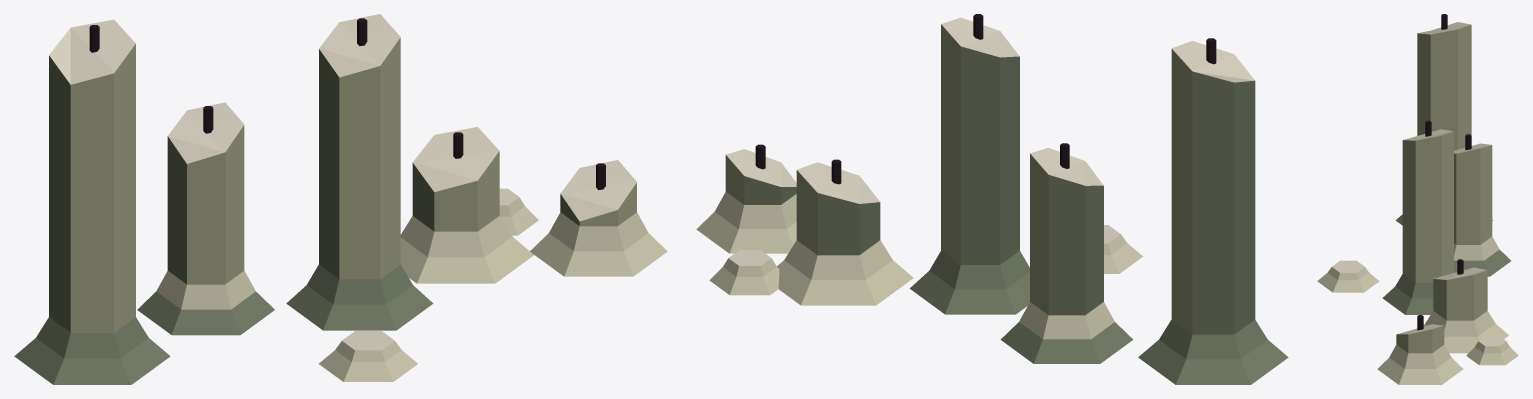
The model's file is wall_niche_candles.glb.
3 renders of one model, left to right at view 1: azimuth 30°, elevation 25°; view 2: azimuth 150°, elevation 25°; view 3: azimuth 270°, elevation 25°, orthographic. The views are drawn at different scales.
Visible parts, largest first — view 1: candles; view 2: candles; view 3: candles.
Boxes of the visible parts, bbox=[...] form: candles: bbox=[14, 14, 667, 384]; candles: bbox=[696, 14, 1288, 384]; candles: bbox=[1317, 14, 1518, 384].
Size of the model in its own units: 0.5398 by 0.284 by 0.252.
1 material, 1 textured.
